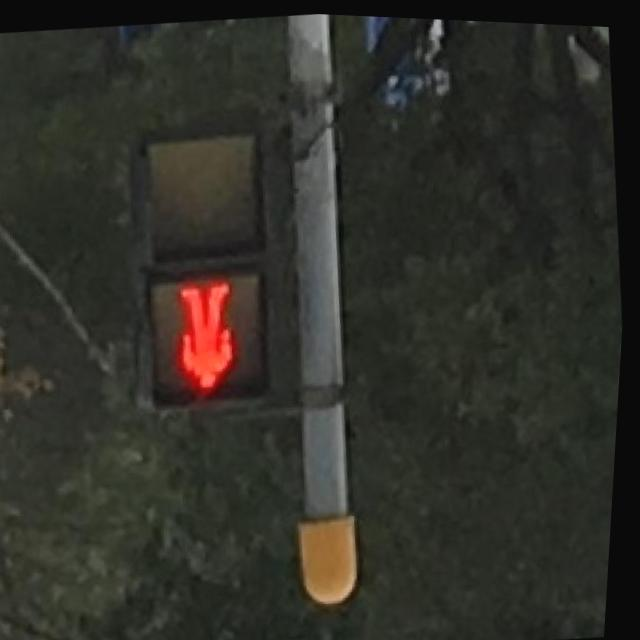red_light: (151, 272, 271, 403)
